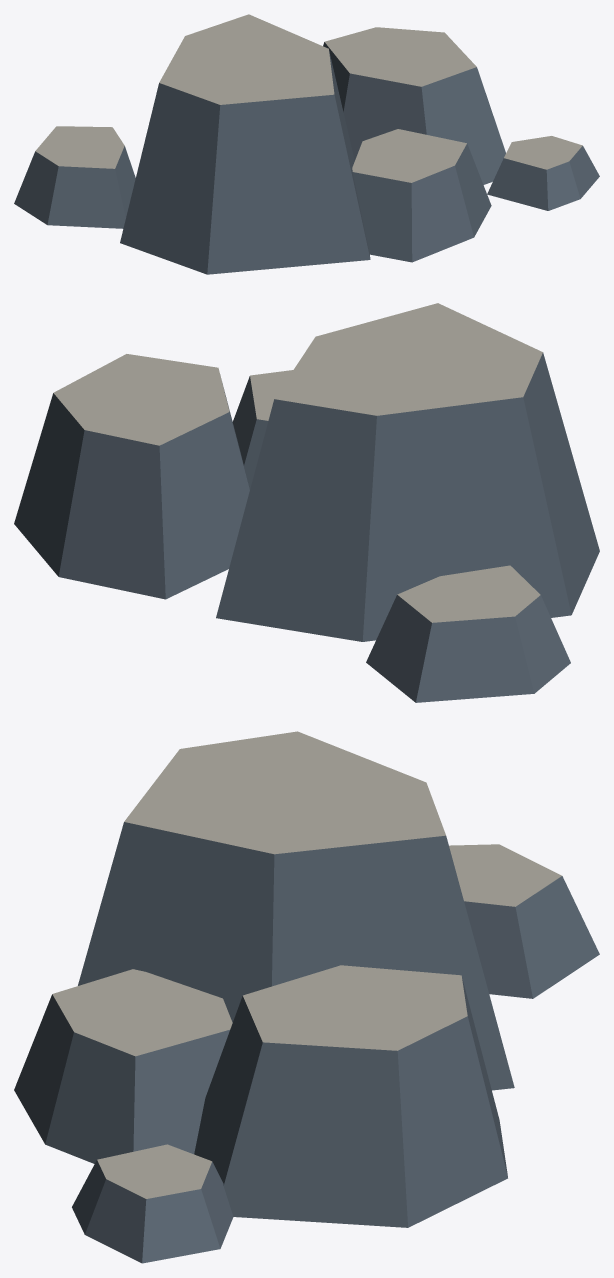
The model's file is dress-rocks.glb.
3 renders of one model, top to bottom at view 1: azimuth 30°, elevation 25°; view 2: azimuth 150°, elevation 25°; view 3: azimuth 270°, elevation 25°, orthographic. The views are drawn at different scales.
Visible parts, largest first — view 1: dress-rocks; view 2: dress-rocks; view 3: dress-rocks.
Part boxes in pixels (x1,y1,x2,y2): dress-rocks: (14,14,599,274); dress-rocks: (14,303,599,702); dress-rocks: (14,731,599,1263).
Size of the model in its own units: 2.89 by 0.9 by 2.02.
Materials: 1 (1 with a texture image).
